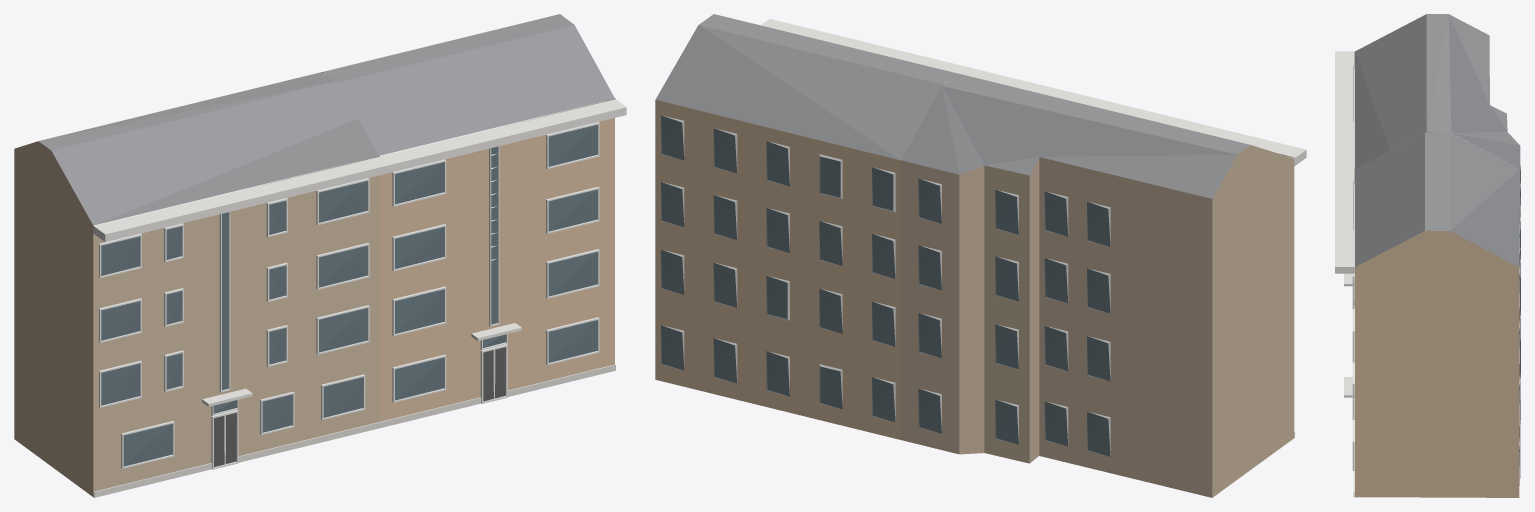
Rendered from chunk-face-polanen-184-250-r1.lod2.glb.
3 views of the same model, side by side, from view 1: azimuth 30°, elevation 25°; view 2: azimuth 150°, elevation 25°; view 3: azimuth 270°, elevation 25° (orthographic). The views are drawn at different scales.
Visible parts, largest first — view 1: lod2; view 2: lod2; view 3: lod2.
Boxes of the visible parts, x1=… form: lod2: x1=14, y1=14, x2=626, y2=497; lod2: x1=655, y1=14, x2=1306, y2=497; lod2: x1=1335, y1=14, x2=1520, y2=497.
Size of the model in its own units: 28.09 by 16.19 by 10.2.
